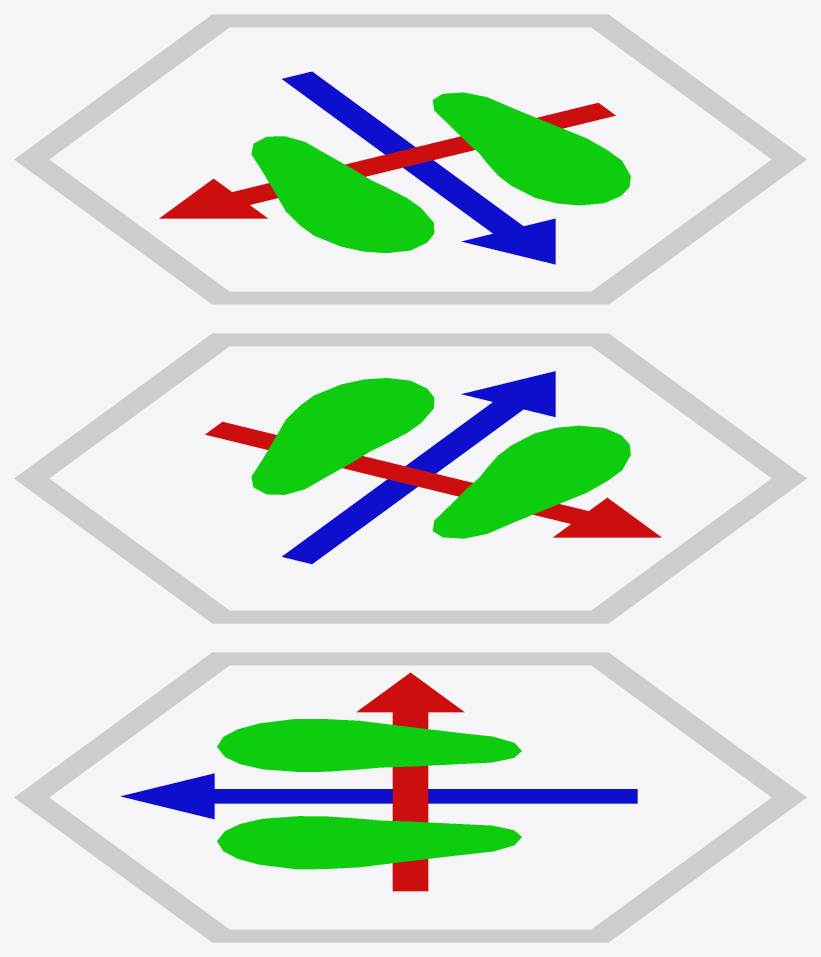
The model's file is HumrMarker.fbx.
The picture shows the model from 3 angles, top to bottom: view 1: azimuth 30°, elevation 25°; view 2: azimuth 150°, elevation 25°; view 3: azimuth 270°, elevation 25°; orthographic projection.
Parts seen in each view (by area): view 1: HumrMarker, Feet; view 2: HumrMarker, Feet; view 3: HumrMarker, Feet.
Boxes of the visible parts, x1=… form: HumrMarker: x1=14, y1=14, x2=806, y2=304; Feet: x1=251, y1=92, x2=630, y2=252; HumrMarker: x1=14, y1=333, x2=806, y2=623; Feet: x1=251, y1=378, x2=630, y2=538; HumrMarker: x1=14, y1=652, x2=806, y2=942; Feet: x1=217, y1=719, x2=521, y2=869.
Bounding box in the file's own units: 0.5439 × 0.003 × 0.628.
